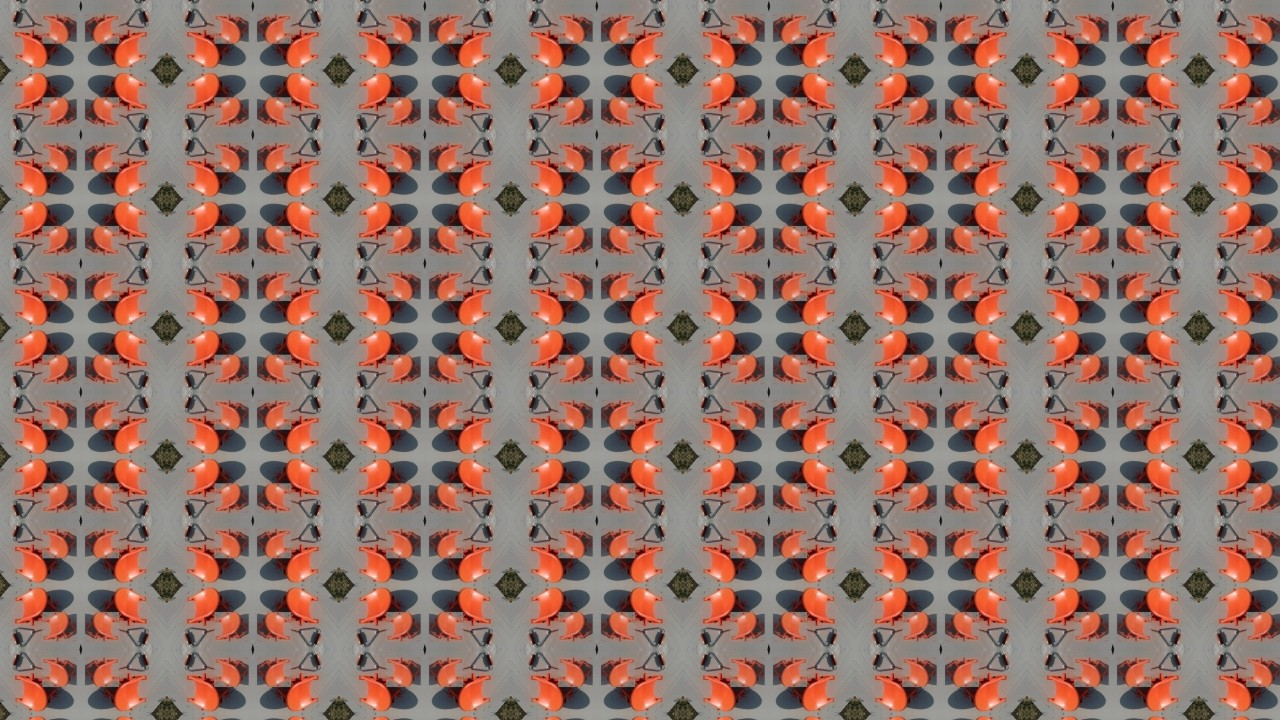chock: (11, 157, 56, 196), (274, 157, 319, 196), (529, 157, 574, 196), (792, 157, 837, 196), (1047, 157, 1092, 196), (11, 201, 56, 240), (274, 201, 319, 240), (529, 201, 574, 240), (792, 201, 837, 240), (1047, 201, 1092, 240), (11, 286, 56, 325), (274, 286, 319, 325), (529, 286, 574, 325), (792, 286, 837, 325), (1047, 286, 1092, 325), (11, 330, 56, 369), (274, 330, 319, 369), (529, 330, 574, 369), (792, 330, 837, 369), (1047, 330, 1092, 369), (11, 545, 56, 584), (274, 545, 319, 584), (529, 545, 574, 584), (792, 545, 837, 584), (1047, 545, 1092, 584), (11, 589, 56, 628), (274, 589, 319, 628), (529, 589, 574, 628), (792, 589, 837, 628), (1047, 589, 1092, 628), (11, 674, 56, 713), (274, 674, 319, 713), (529, 674, 574, 713), (792, 674, 837, 713), (1047, 674, 1092, 713), (102, 157, 146, 196), (184, 157, 228, 196), (357, 157, 401, 196), (447, 157, 491, 196), (620, 157, 664, 196), (702, 157, 746, 196), (875, 157, 919, 196), (965, 157, 1009, 196), (1138, 157, 1182, 196), (1220, 157, 1264, 196), (102, 201, 146, 240), (184, 201, 228, 240), (357, 201, 401, 240), (447, 201, 491, 240), (620, 201, 664, 240), (702, 201, 746, 240), (875, 201, 919, 240), (965, 201, 1009, 240), (1138, 201, 1182, 240), (1220, 201, 1264, 240), (102, 286, 146, 325), (184, 286, 228, 325), (357, 286, 401, 325), (447, 286, 491, 325), (620, 286, 664, 325), (702, 286, 746, 325), (875, 286, 919, 325), (965, 286, 1009, 325), (1138, 286, 1182, 325), (1220, 286, 1264, 325), (102, 330, 146, 369), (184, 330, 228, 369), (357, 330, 401, 369), (447, 330, 491, 369), (620, 330, 664, 369), (702, 330, 746, 369), (875, 330, 919, 369), (965, 330, 1009, 369), (1138, 330, 1182, 369), (1220, 330, 1264, 369), (102, 545, 146, 584), (184, 545, 228, 584), (357, 545, 401, 584), (447, 545, 491, 584), (620, 545, 664, 584), (702, 545, 746, 584), (875, 545, 919, 584), (965, 545, 1009, 584), (1138, 545, 1182, 584), (1220, 545, 1264, 584), (102, 589, 146, 628), (184, 589, 228, 628), (357, 589, 401, 628), (447, 589, 491, 628), (620, 589, 664, 628), (702, 589, 746, 628), (875, 589, 919, 628), (965, 589, 1009, 628), (1138, 589, 1182, 628), (1220, 589, 1264, 628), (102, 674, 146, 713), (184, 674, 228, 713), (357, 674, 401, 713), (447, 674, 491, 713), (620, 674, 664, 713), (702, 674, 746, 713), (875, 674, 919, 713), (965, 674, 1009, 713), (1138, 674, 1182, 713), (1220, 674, 1264, 713), (11, 28, 56, 66), (274, 28, 319, 66), (529, 28, 574, 66), (792, 28, 837, 66), (1047, 28, 1092, 66), (11, 72, 56, 110), (274, 72, 319, 110), (529, 72, 574, 110), (792, 72, 837, 110), (1047, 72, 1092, 110), (11, 416, 56, 454), (274, 416, 319, 454), (529, 416, 574, 454), (792, 416, 837, 454), (1047, 416, 1092, 454), (11, 460, 56, 498), (274, 460, 319, 498), (529, 460, 574, 498), (792, 460, 837, 498), (1047, 460, 1092, 498), (102, 28, 146, 66), (184, 28, 228, 66), (357, 28, 401, 66), (447, 28, 491, 66), (620, 28, 664, 66), (702, 28, 746, 66), (875, 28, 919, 66), (965, 28, 1009, 66), (1138, 28, 1182, 66), (1220, 28, 1264, 66), (102, 72, 146, 110), (184, 72, 228, 110), (357, 72, 401, 110), (447, 72, 491, 110), (620, 72, 664, 110), (702, 72, 746, 110), (875, 72, 919, 110), (965, 72, 1009, 110), (1138, 72, 1182, 110), (1220, 72, 1264, 110), (102, 416, 146, 454), (184, 416, 228, 454), (357, 416, 401, 454), (447, 416, 491, 454), (620, 416, 664, 454), (702, 416, 746, 454), (875, 416, 919, 454), (965, 416, 1009, 454), (1138, 416, 1182, 454), (1220, 416, 1264, 454), (102, 460, 146, 498), (184, 460, 228, 498), (357, 460, 401, 498), (447, 460, 491, 498), (620, 460, 664, 498), (702, 460, 746, 498), (875, 460, 919, 498), (965, 460, 1009, 498), (1138, 460, 1182, 498), (1220, 460, 1264, 498), (385, 12, 420, 42), (428, 12, 463, 42), (903, 12, 938, 42), (946, 12, 981, 42), (385, 96, 420, 126), (428, 96, 463, 126), (903, 96, 938, 126), (946, 96, 981, 126), (385, 225, 420, 255), (428, 225, 463, 255), (903, 225, 938, 255), (946, 225, 981, 255), (385, 271, 420, 301), (428, 271, 463, 301), (903, 271, 938, 301), (946, 271, 981, 301), (385, 400, 420, 430), (428, 400, 463, 430), (903, 400, 938, 430), (946, 400, 981, 430), (385, 484, 420, 514), (428, 484, 463, 514), (903, 484, 938, 514), (946, 484, 981, 514), (385, 613, 420, 643), (428, 613, 463, 643), (903, 613, 938, 643), (946, 613, 981, 643), (385, 659, 420, 689), (428, 659, 463, 689), (903, 659, 938, 689), (946, 659, 981, 689), (40, 12, 74, 42), (83, 12, 117, 42), (213, 12, 247, 42), (256, 12, 290, 42), (558, 12, 592, 42), (601, 12, 635, 42), (731, 12, 765, 42), (774, 12, 808, 42), (1076, 12, 1110, 42), (1119, 12, 1153, 42), (40, 96, 74, 126), (83, 96, 117, 126), (213, 96, 247, 126), (256, 96, 290, 126), (558, 96, 592, 126), (601, 96, 635, 126), (731, 96, 765, 126), (774, 96, 808, 126), (1076, 96, 1110, 126), (1119, 96, 1153, 126), (40, 225, 74, 255), (83, 225, 117, 255), (213, 225, 247, 255), (256, 225, 290, 255), (558, 225, 592, 255), (601, 225, 635, 255), (731, 225, 765, 255), (774, 225, 808, 255), (1076, 225, 1110, 255), (1119, 225, 1153, 255), (40, 271, 74, 301), (83, 271, 117, 301), (213, 271, 247, 301), (256, 271, 290, 301), (558, 271, 592, 301), (601, 271, 635, 301), (731, 271, 765, 301), (774, 271, 808, 301), (1076, 271, 1110, 301), (1119, 271, 1153, 301), (40, 400, 74, 430), (83, 400, 117, 430), (213, 400, 247, 430), (256, 400, 290, 430), (558, 400, 592, 430), (601, 400, 635, 430), (731, 400, 765, 430), (774, 400, 808, 430), (1076, 400, 1110, 430), (1119, 400, 1153, 430), (40, 484, 74, 514), (83, 484, 117, 514), (213, 484, 247, 514), (256, 484, 290, 514), (558, 484, 592, 514), (601, 484, 635, 514), (731, 484, 765, 514), (774, 484, 808, 514), (1076, 484, 1110, 514), (1119, 484, 1153, 514), (40, 613, 74, 643), (83, 613, 117, 643), (213, 613, 247, 643), (256, 613, 290, 643), (558, 613, 592, 643), (601, 613, 635, 643), (731, 613, 765, 643), (774, 613, 808, 643), (1076, 613, 1110, 643), (1119, 613, 1153, 643), (40, 659, 74, 689), (83, 659, 117, 689), (213, 659, 247, 689), (256, 659, 290, 689), (558, 659, 592, 689), (601, 659, 635, 689), (731, 659, 765, 689), (774, 659, 808, 689), (1076, 659, 1110, 689), (1119, 659, 1153, 689), (385, 142, 420, 171), (428, 142, 463, 171), (903, 142, 938, 171), (946, 142, 981, 171), (385, 355, 420, 384), (428, 355, 463, 384), (903, 355, 938, 384), (946, 355, 981, 384), (385, 530, 420, 559), (428, 530, 463, 559), (903, 530, 938, 559), (946, 530, 981, 559), (40, 142, 74, 171), (83, 142, 117, 171), (213, 142, 247, 171), (256, 142, 290, 171), (558, 142, 592, 171), (601, 142, 635, 171), (731, 142, 765, 171), (774, 142, 808, 171), (1076, 142, 1110, 171), (1119, 142, 1153, 171), (40, 355, 74, 384), (83, 355, 117, 384), (213, 355, 247, 384), (256, 355, 290, 384), (558, 355, 592, 384), (601, 355, 635, 384), (731, 355, 765, 384), (774, 355, 808, 384), (1076, 355, 1110, 384), (1119, 355, 1153, 384), (40, 530, 74, 559), (83, 530, 117, 559), (213, 530, 247, 559), (256, 530, 290, 559), (558, 530, 592, 559), (601, 530, 635, 559), (731, 530, 765, 559), (774, 530, 808, 559), (1076, 530, 1110, 559), (1119, 530, 1153, 559), (1249, 12, 1280, 42), (1249, 96, 1280, 126), (1249, 225, 1280, 255), (1249, 271, 1280, 301), (1249, 400, 1280, 430), (1249, 484, 1280, 514), (1249, 613, 1280, 643), (1249, 659, 1280, 689), (1249, 142, 1280, 171), (1249, 355, 1280, 384), (1249, 530, 1280, 559)
